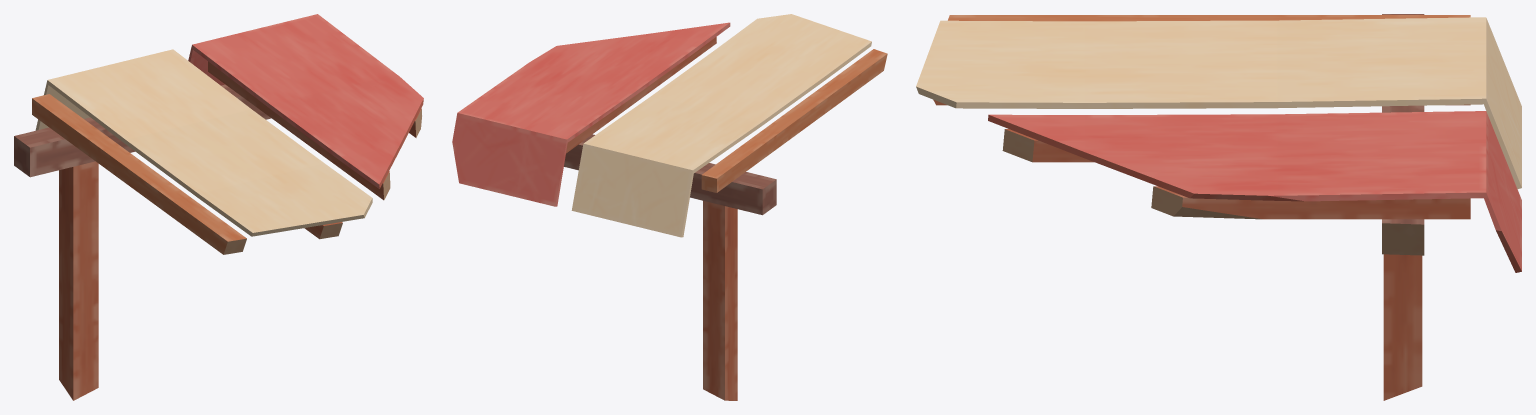
Rendered from pergola_s05.fbx.
3 views of the same model, side by side, from view 1: azimuth 30°, elevation 25°; view 2: azimuth 150°, elevation 25°; view 3: azimuth 270°, elevation 25° (orthographic). The views are drawn at different scales.
Parts seen in each view (by area): view 1: pergola_s05; view 2: pergola_s05; view 3: pergola_s05.
Boxes of the visible parts, x1=… form: pergola_s05: x1=14, y1=14, x2=423, y2=400; pergola_s05: x1=452, y1=14, x2=887, y2=400; pergola_s05: x1=916, y1=14, x2=1521, y2=400.
Bounding box in the file's own units: 5.2 × 4.4 × 6.28.
